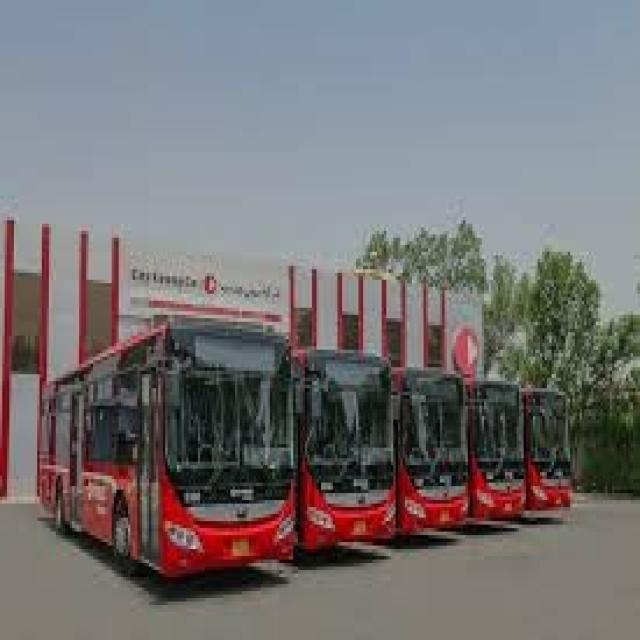bus: (36, 330, 298, 578), (298, 347, 399, 559), (395, 365, 470, 538), (472, 377, 529, 519), (531, 393, 575, 510)
